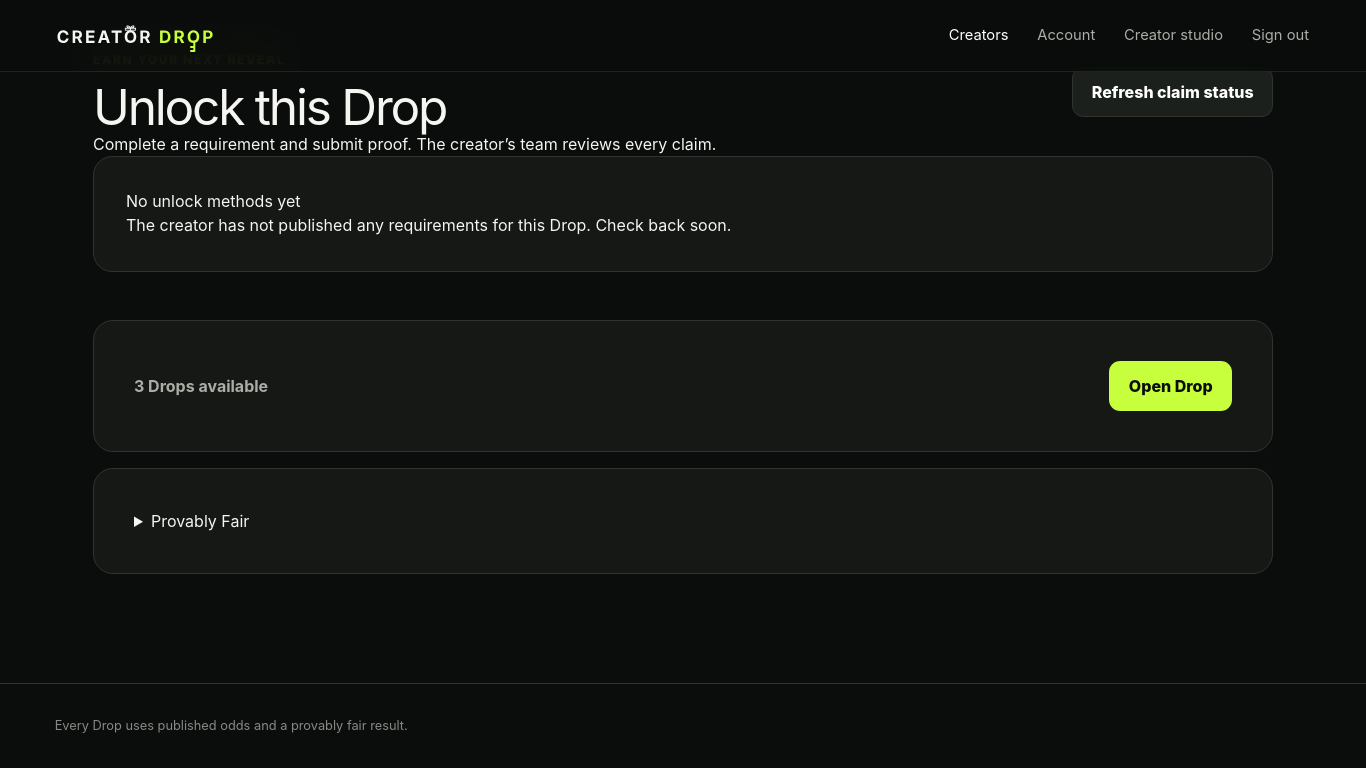
Test: R1C active fan product › cancels confirmation without submitting an opening
The image size is (1366, 768).
(page scrolled)
Click the button "Open Drop" at (1171, 386), box [1109,361,1232,411]
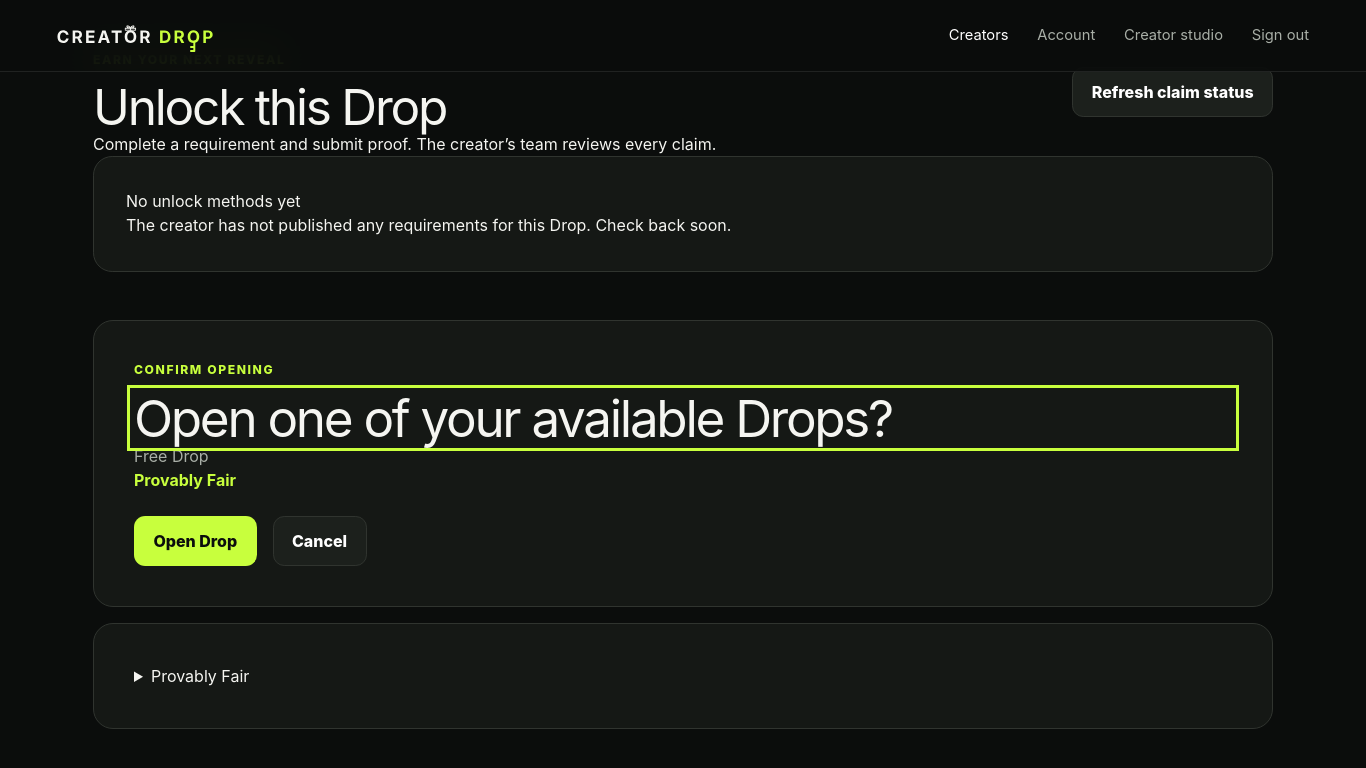
Click the button "Cancel" at (320, 541), box [273,516,366,566]
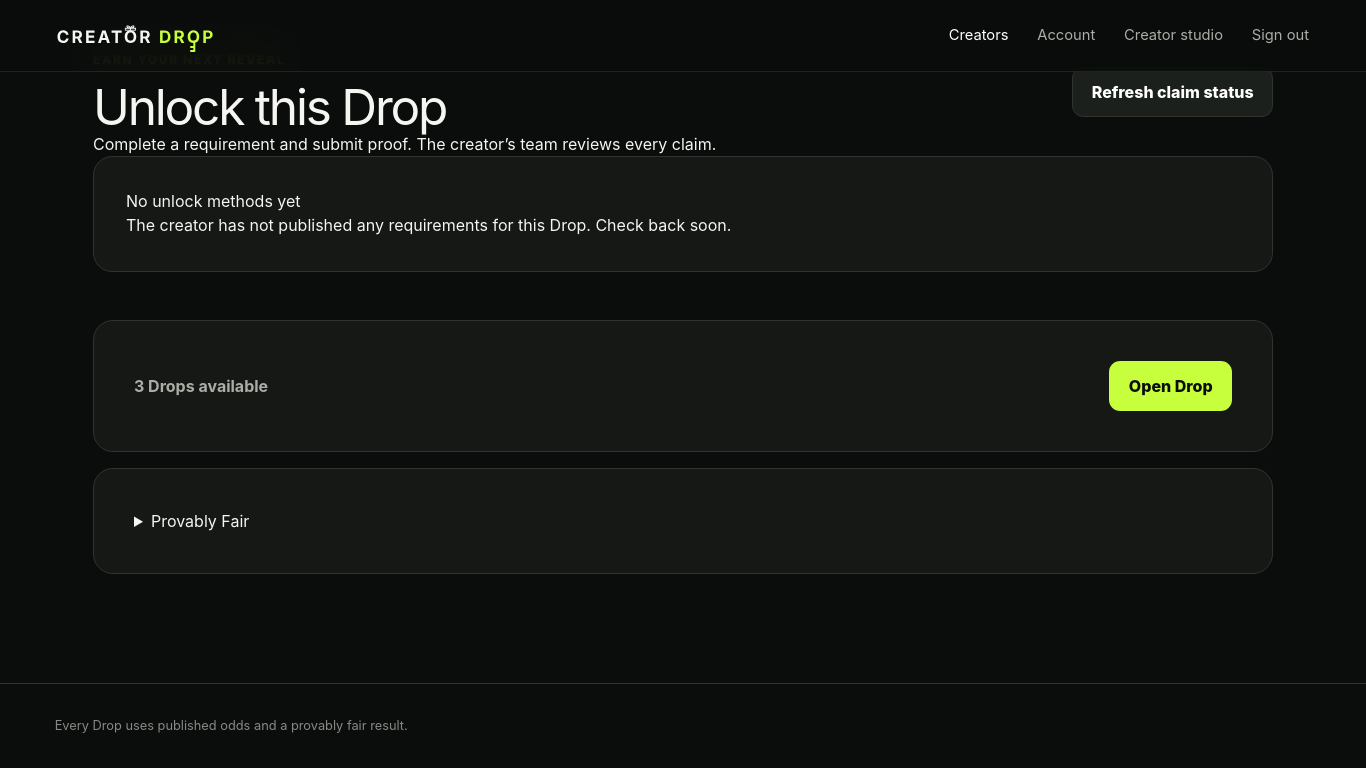
expect the button "Open Drop" is shown: met, box [1109,361,1232,411]
expect the heading "Open one of your available Drops?" is gone: met
